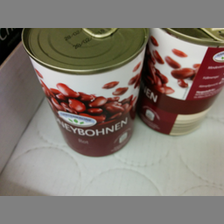beans: (21, 27, 144, 158), (146, 26, 224, 140)
